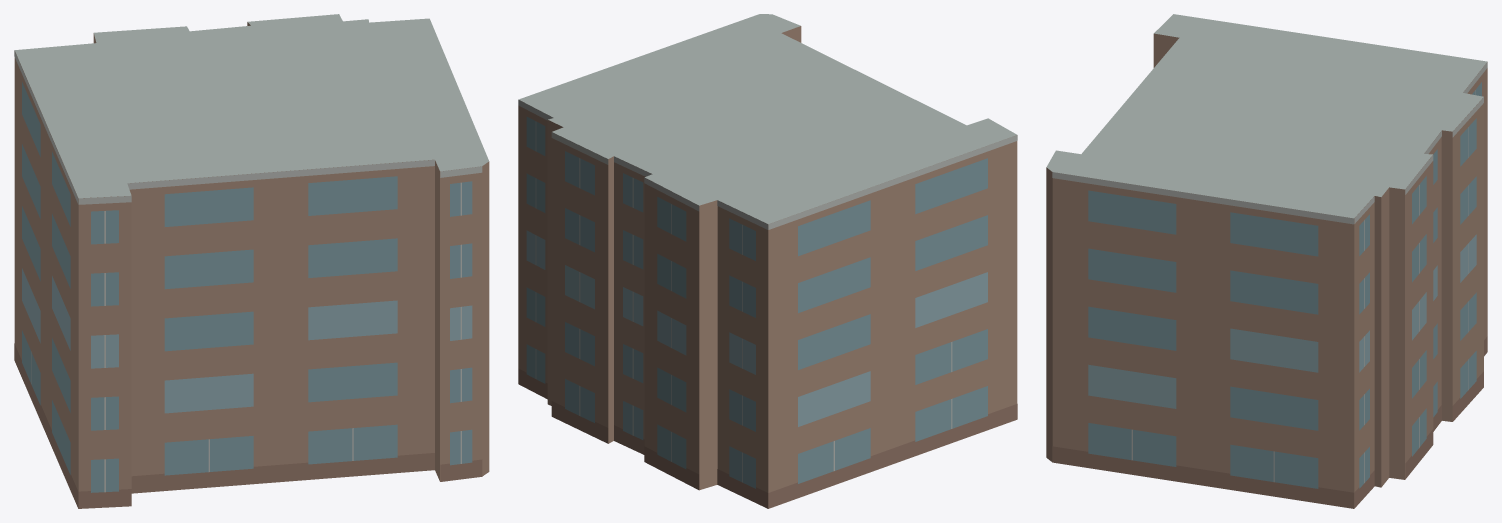
The model's file is survey-upis-32990633.glb.
3 renders of one model, left to right at view 1: azimuth 30°, elevation 25°; view 2: azimuth 150°, elevation 25°; view 3: azimuth 270°, elevation 25°, orthographic. The views are drawn at different scales.
Visible parts, largest first — view 1: survey-upis-32990633.tmp; view 2: survey-upis-32990633.tmp; view 3: survey-upis-32990633.tmp.
Boxes of the visible parts, x1,y1,x2,y2 form: survey-upis-32990633.tmp: (14, 14, 489, 508); survey-upis-32990633.tmp: (518, 14, 1017, 508); survey-upis-32990633.tmp: (1046, 14, 1487, 508).
Bounding box in the file's own units: 17.67 × 11.7 × 16.12.
